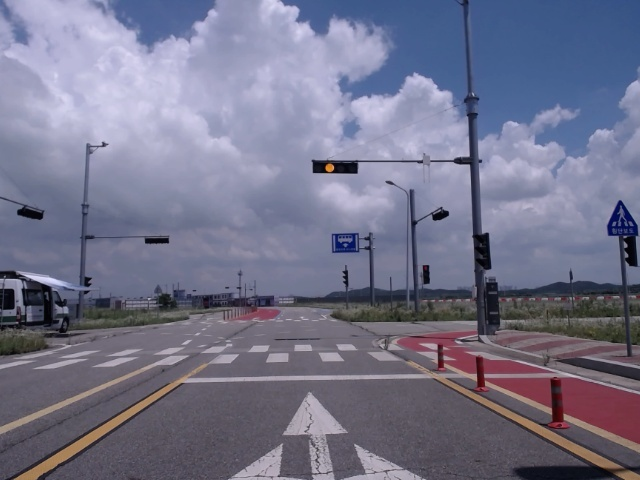orange_4: (313, 159, 358, 174)
